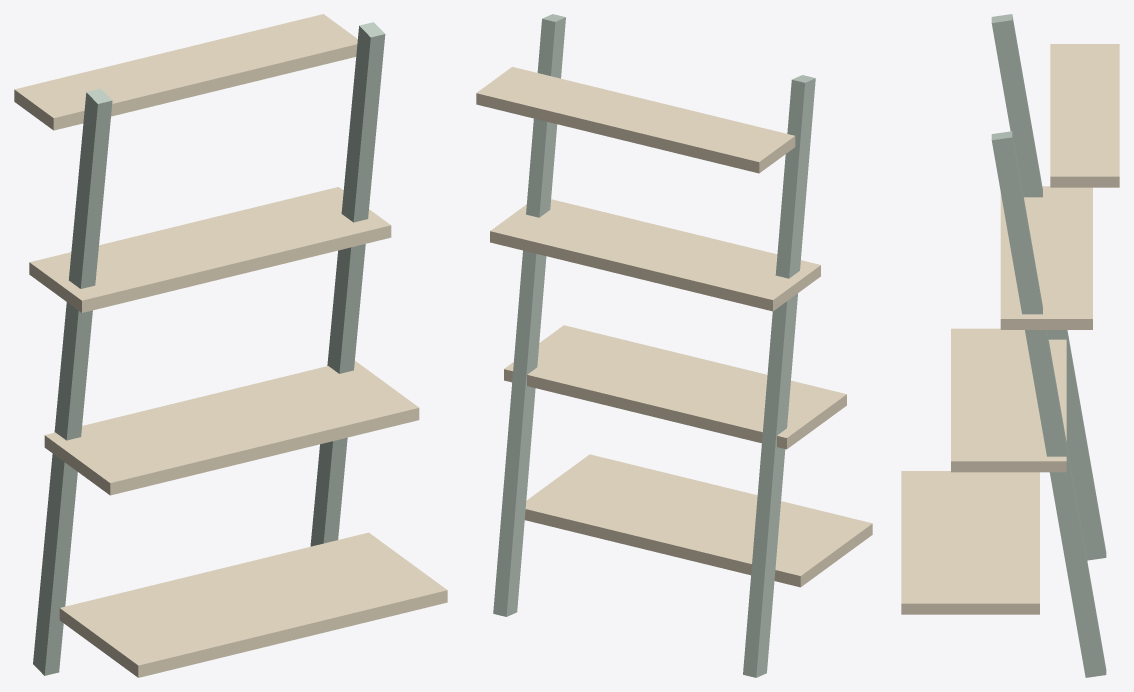
Rendered from shelf_ladder_4tier.glb.
The picture shows the model from 3 angles, left to right: view 1: azimuth 30°, elevation 25°; view 2: azimuth 150°, elevation 25°; view 3: azimuth 270°, elevation 25°; orthographic projection. The views are drawn at different scales.
Visible parts, largest first — view 1: p2, p3, p4, p5, p0, p1; view 2: p2, p3, p4, p0, p5, p1; view 3: p2, p3, p1, p4, p5, p0.
Boxes of the visible parts, x1,y1,x2,y2 form: p2: [59, 532, 447, 677]; p3: [44, 361, 419, 495]; p4: [29, 187, 391, 312]; p5: [14, 14, 357, 130]; p0: [33, 88, 112, 675]; p1: [310, 22, 385, 546]; p2: [524, 454, 872, 587]; p3: [504, 325, 846, 449]; p4: [490, 199, 820, 311]; p0: [743, 75, 815, 677]; p5: [476, 67, 795, 173]; p1: [493, 14, 565, 616]; p2: [901, 471, 1039, 614]; p3: [951, 328, 1066, 472]; p1: [991, 131, 1106, 677]; p4: [1000, 186, 1092, 329]; p5: [1050, 44, 1119, 187]; p0: [991, 14, 1106, 560].
Size of the model in its own units: 0.68 by 1.29 by 0.4726.
